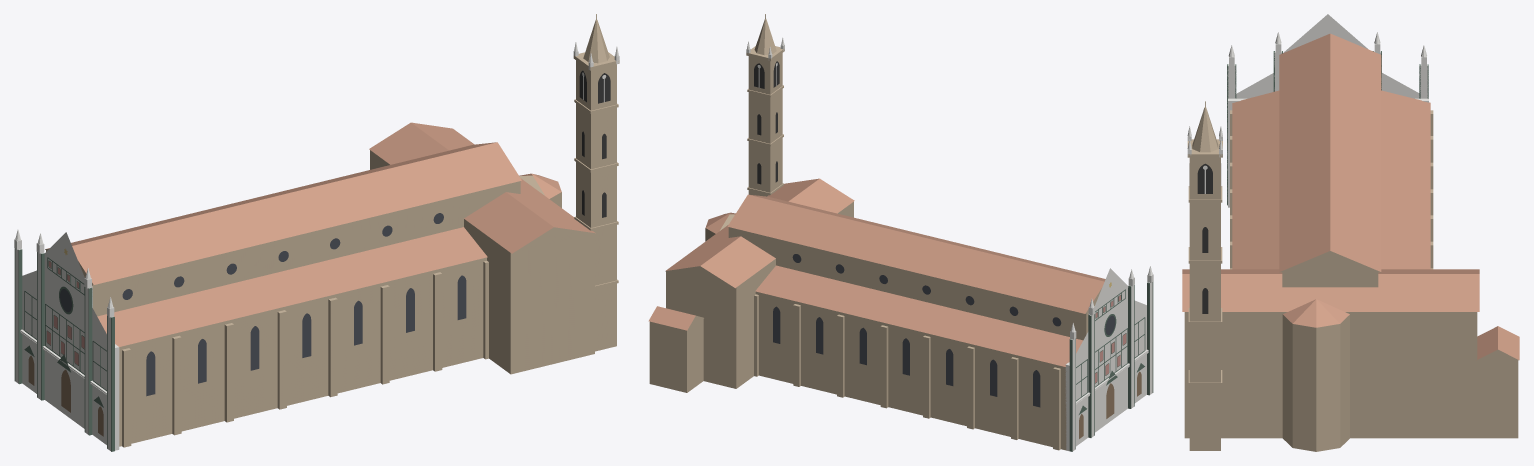
Rendered from santa_croce.glb.
The picture shows the model from 3 angles, left to right: view 1: azimuth 30°, elevation 25°; view 2: azimuth 150°, elevation 25°; view 3: azimuth 270°, elevation 25°; orthographic projection. The views are drawn at different scales.
Visible parts, largest first — view 1: santa_croce_nave_east@1320-99999.stone, santa_croce_nave_east@1320-99999.roof, santa_croce_east@1300-99999.stone, santa_croce_nave_west@1385-99999.stone, santa_croce_nave_mid@1350-99999.stone, facade@1863-99999.white, campanile_baccani@1865-99999.stone, santa_croce_nave_west@1385-99999.roof, santa_croce_nave_mid@1350-99999.roof, santa_croce_east@1300-99999.roof, facade@1863-99999.green, santa_croce_nave_east@1320-99999.glass (+4 smaller); view 2: santa_croce_nave_east@1320-99999.stone, santa_croce_nave_east@1320-99999.roof, santa_croce_east@1300-99999.stone, santa_croce_nave_west@1385-99999.stone, santa_croce_nave_mid@1350-99999.stone, facade@1863-99999.white, santa_croce_nave_west@1385-99999.roof, santa_croce_nave_mid@1350-99999.roof, santa_croce_east@1300-99999.roof, campanile_baccani@1865-99999.stone, facade@1863-99999.green, santa_croce_nave_east@1320-99999.glass (+4 smaller); view 3: santa_croce_east@1300-99999.stone, santa_croce_nave_east@1320-99999.roof, santa_croce_east@1300-99999.roof, santa_croce_nave_west@1385-99999.roof, santa_croce_nave_mid@1350-99999.roof, campanile_baccani@1865-99999.stone, facade@1863-99999.white, santa_croce_nave_east@1320-99999.stone, campanile_baccani@1865-99999.dark, facade@1863-99999.green, santa_croce_nave_mid@1350-99999.stone, santa_croce_nave_west@1385-99999.stone (+1 smaller).
Part boxes in pixels (x1,y1,x2,y2): santa_croce_nave_east@1320-99999.stone: (309,181,520,396); santa_croce_nave_east@1320-99999.roof: (263,142,521,294); santa_croce_east@1300-99999.stone: (370,150,594,374); santa_croce_nave_west@1385-99999.stone: (45,249,233,447); santa_croce_nave_mid@1350-99999.stone: (205,232,337,421); facade@1863-99999.white: (14,229,119,450); campanile_baccani@1865-99999.stone: (573,20,619,351); santa_croce_nave_west@1385-99999.roof: (45,219,228,346); santa_croce_nave_mid@1350-99999.roof: (159,194,332,320); santa_croce_east@1300-99999.roof: (369,122,595,253); facade@1863-99999.green: (14,248,114,451); santa_croce_nave_east@1320-99999.glass: (330,213,466,345); santa_croce_nave_east@1320-99999.stone: (728,227,905,408); santa_croce_nave_east@1320-99999.roof: (727,194,944,322); santa_croce_east@1300-99999.stone: (649,201,853,392); santa_croce_nave_west@1385-99999.stone: (972,288,1101,450); santa_croce_nave_mid@1350-99999.stone: (880,270,992,429); facade@1863-99999.white: (1065,266,1153,451); santa_croce_nave_west@1385-99999.roof: (971,259,1105,366); santa_croce_nave_mid@1350-99999.roof: (885,238,1030,343); santa_croce_east@1300-99999.roof: (648,178,854,330); campanile_baccani@1865-99999.stone: (746,19,784,196); facade@1863-99999.green: (1069,282,1153,451); santa_croce_nave_east@1320-99999.glass: (773,254,887,365); santa_croce_east@1300-99999.stone: (1184,312,1518,451); santa_croce_nave_east@1320-99999.roof: (1232,143,1430,271); santa_croce_east@1300-99999.roof: (1182,269,1519,360); santa_croce_nave_west@1385-99999.roof: (1232,33,1430,159); santa_croce_nave_mid@1350-99999.roof: (1232,91,1430,212); campanile_baccani@1865-99999.stone: (1187,107,1222,450); facade@1863-99999.white: (1227,14,1428,207); santa_croce_nave_east@1320-99999.stone: (1230,215,1433,287); campanile_baccani@1865-99999.dark: (1197,163,1212,313); facade@1863-99999.green: (1227,51,1428,205); santa_croce_nave_mid@1350-99999.stone: (1230,162,1433,218); santa_croce_nave_west@1385-99999.stone: (1230,110,1433,162).
Size of the model in its own units: 123 by 78.7 by 70.2.
